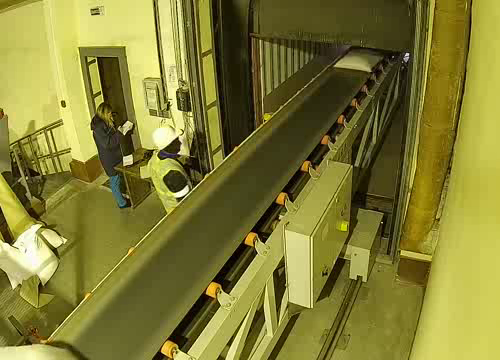bag: (0, 331, 91, 360), (332, 44, 387, 78)
